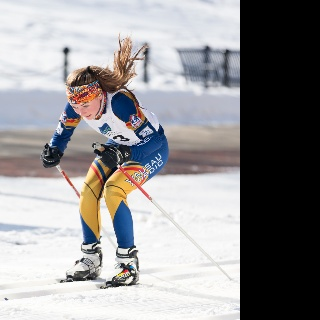without_mask: (56, 83, 101, 121)
